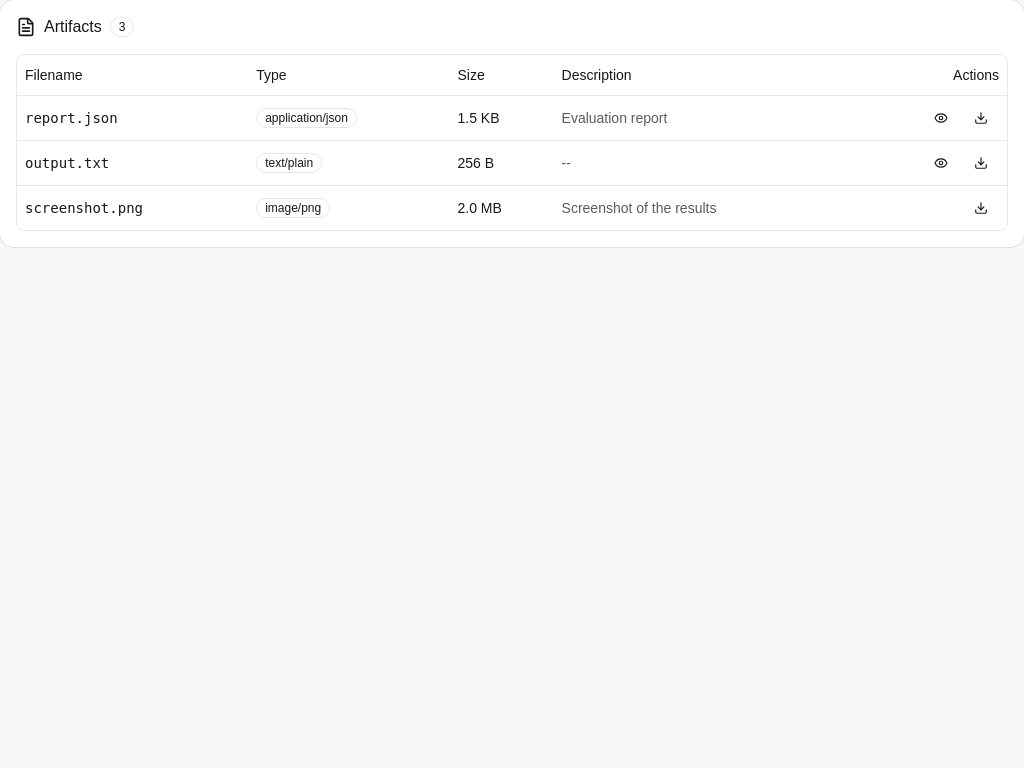
Test case: ArtifactsList › opens preview dialog when preview button is clicked
expect the text "report.json" is shown: met, box [17,95,248,140]
Click the button titled "Preview" in the row of "report.json": (941, 118) [923,104,959,132]
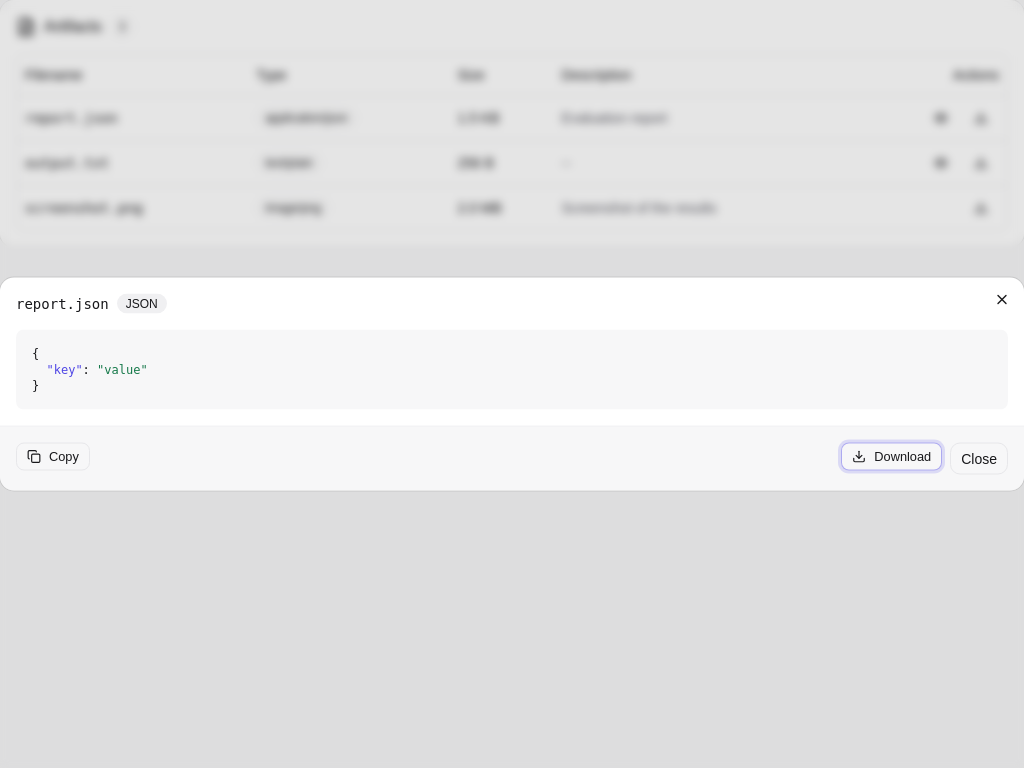
expect the text "\"key\"" is shown: met, box [46,362,83,376]
expect the text "\"value\"" is shown: met, box [97,362,148,376]
